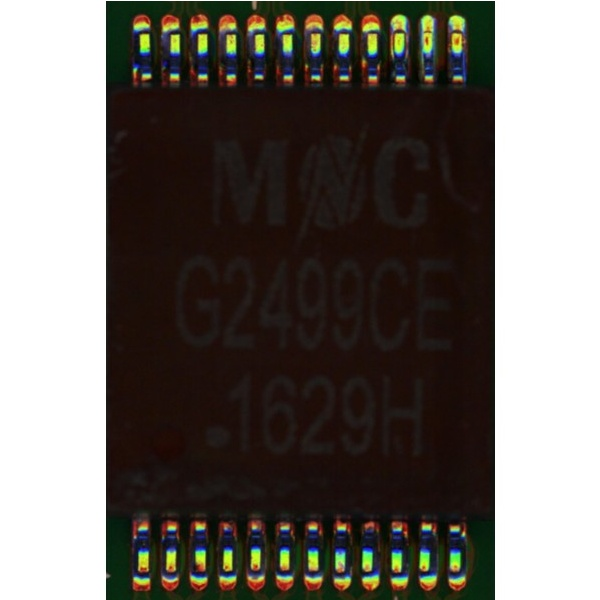Bad_podu: (451, 24, 461, 39), (393, 25, 404, 35), (423, 25, 430, 40)
Bad_qiaojiao: (403, 32, 409, 60), (389, 33, 393, 60)
